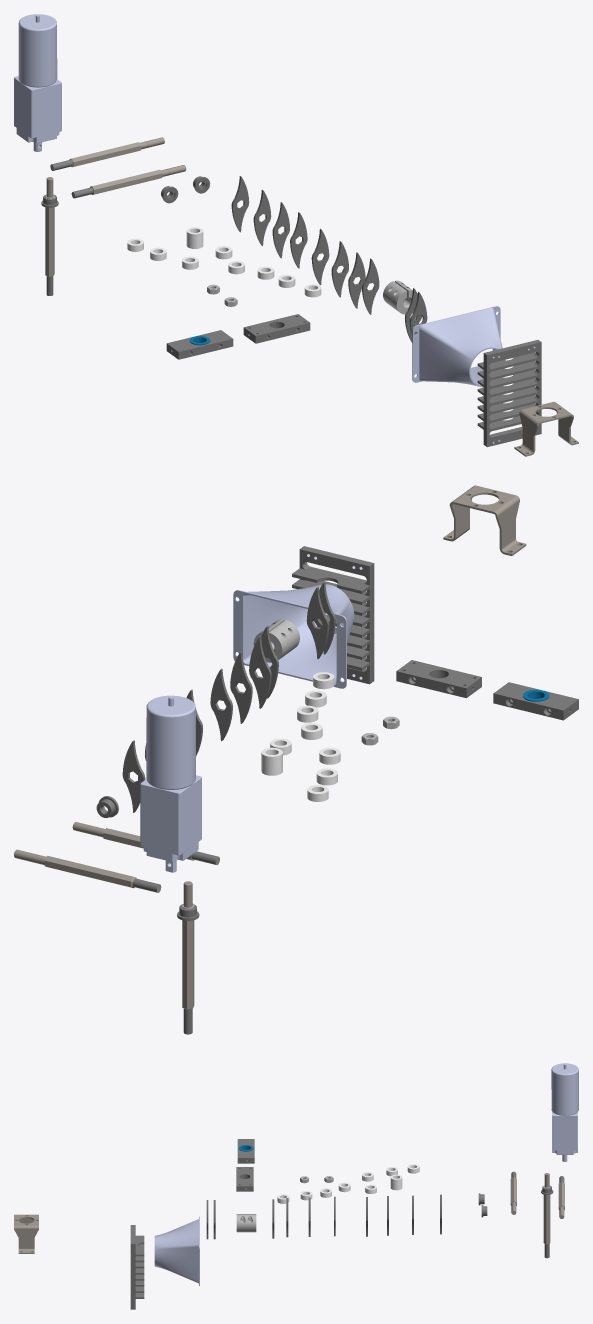
File: WorkBenchAssembly.fbx
The picture shows the model from 3 angles, top to bottom: view 1: azimuth 30°, elevation 25°; view 2: azimuth 150°, elevation 25°; view 3: azimuth 270°, elevation 25°; orthographic projection. The views are drawn at different scales.
Parts seen in each view (by area): view 1: Solid1 (×16), Solid2; view 2: Solid1 (×14), Solid2; view 3: Solid1 (×7), Solid2.
Part boxes in pixels (left/top/right/bottom): Solid1 (×16): left=14, top=14, right=578, bottom=456; Solid2: left=383, top=280, right=412, bottom=314; Solid1 (×14): left=14, top=485, right=578, bottom=1034; Solid2: left=253, top=619, right=299, bottom=662; Solid1 (×7): left=14, top=1063, right=578, bottom=1309; Solid2: left=236, top=1214, right=256, bottom=1232.
Bounding box in the file's own units: 15.65 × 13.68 × 36.28.
